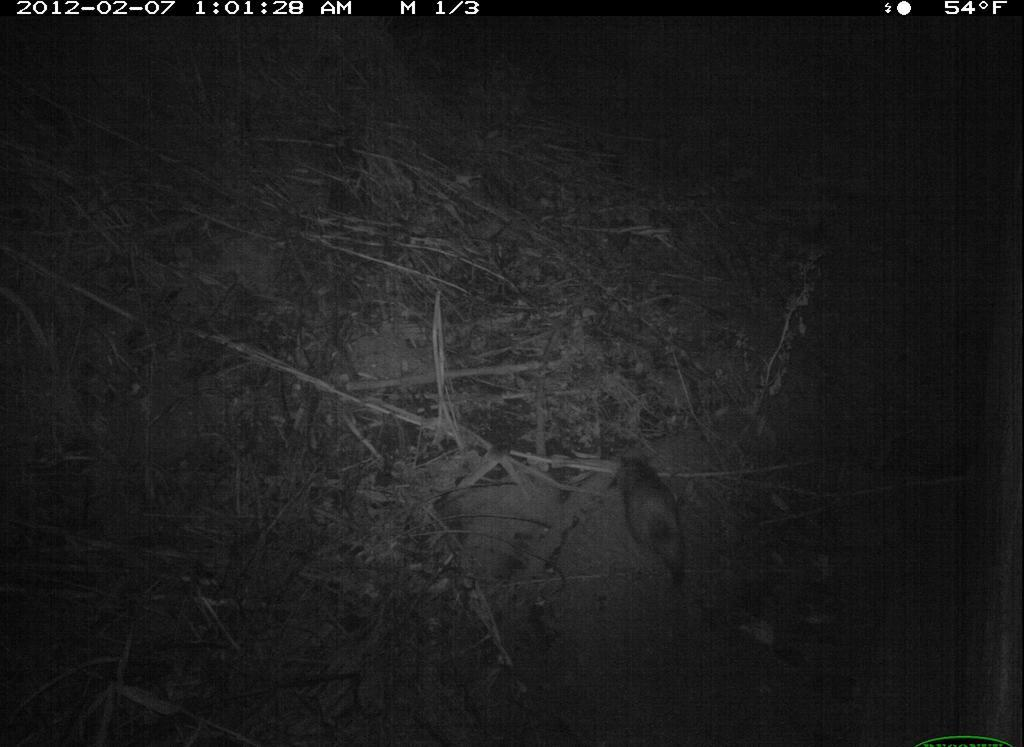opossum: (580, 429, 720, 596)
